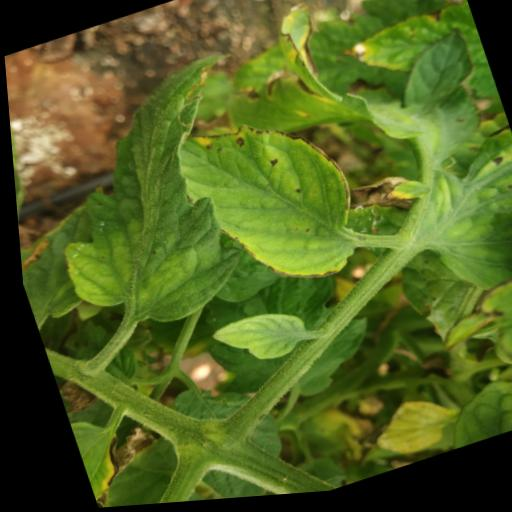Early Blight: (160, 94, 373, 319)
